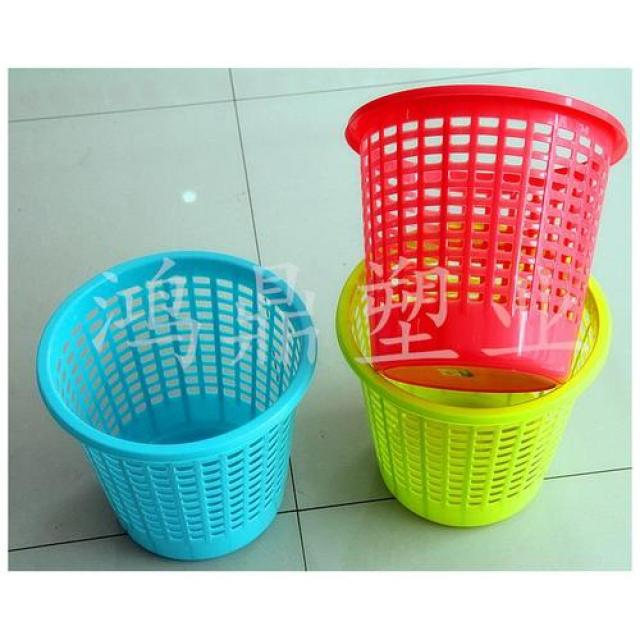dustbin: (36, 245, 326, 564), (339, 79, 632, 393), (333, 237, 614, 537)
